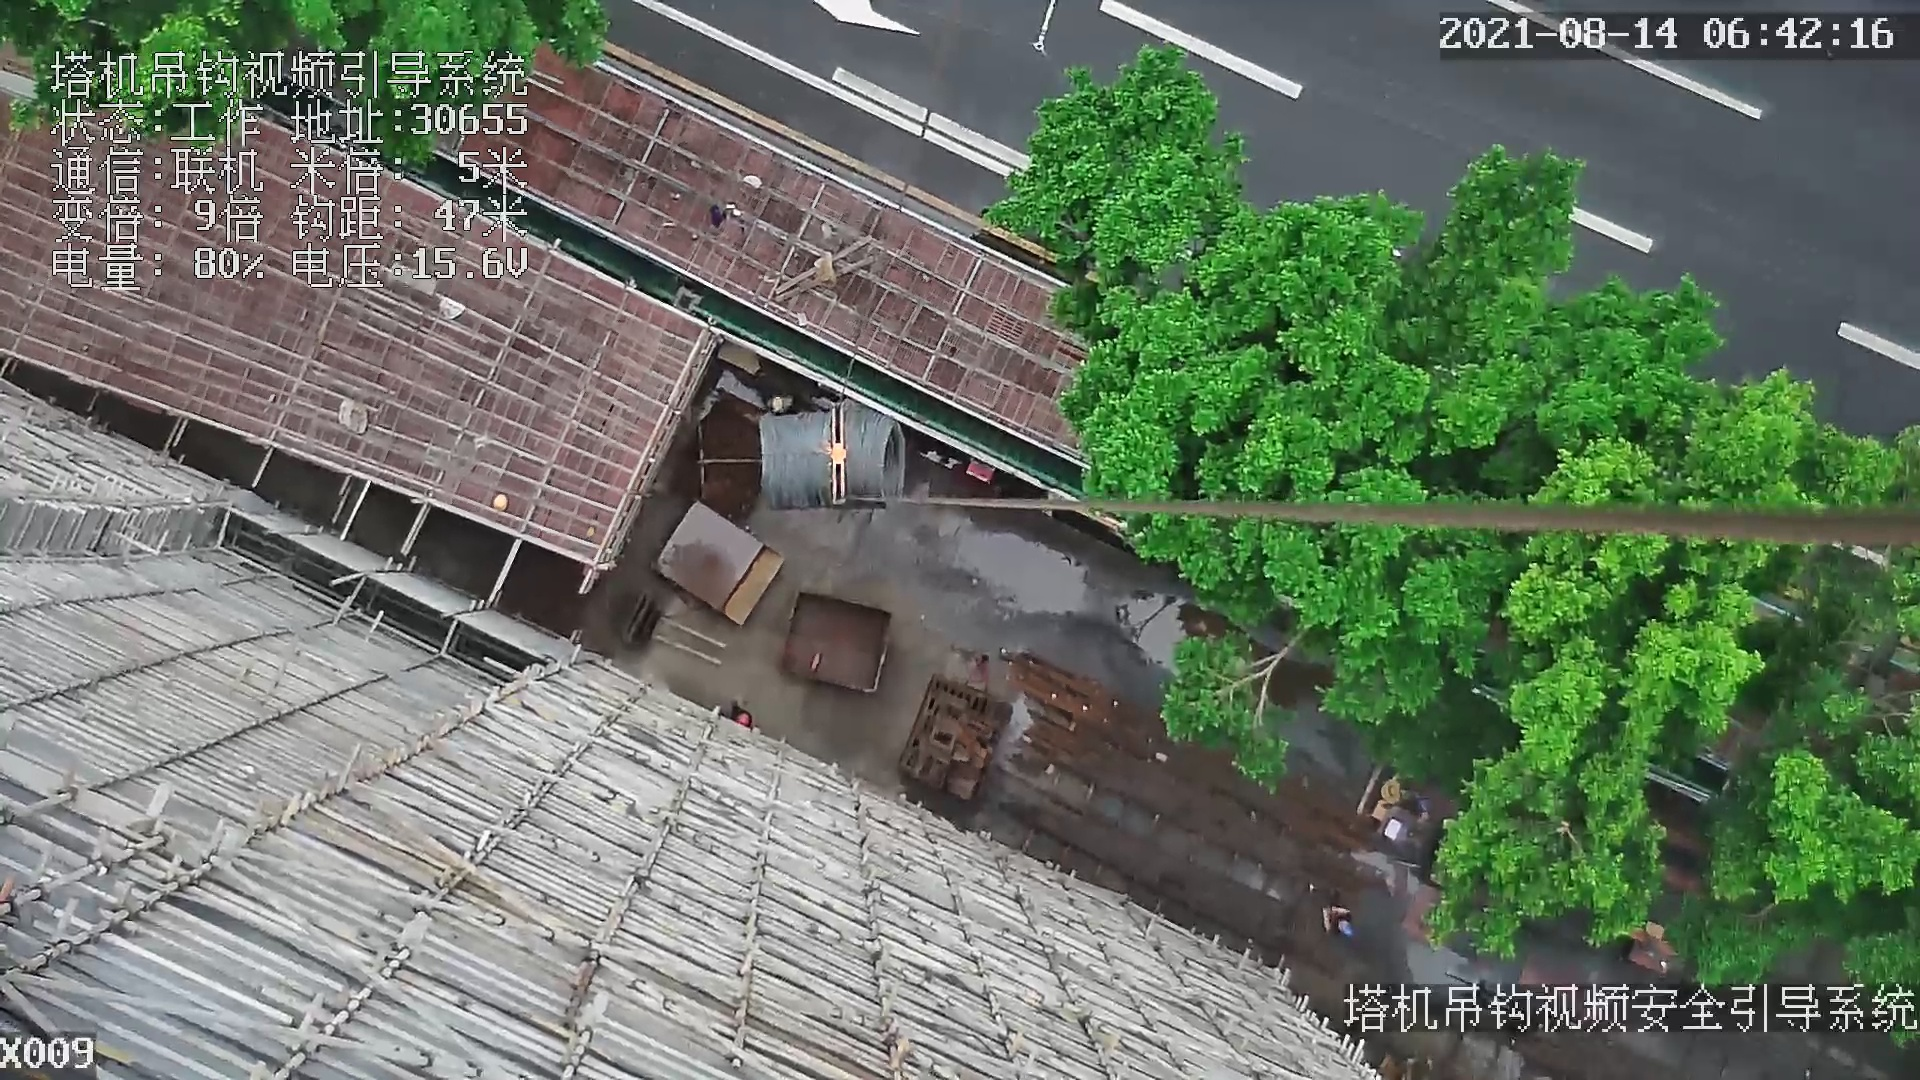hook: (820, 401, 853, 508)
person: (1321, 898, 1363, 945)
